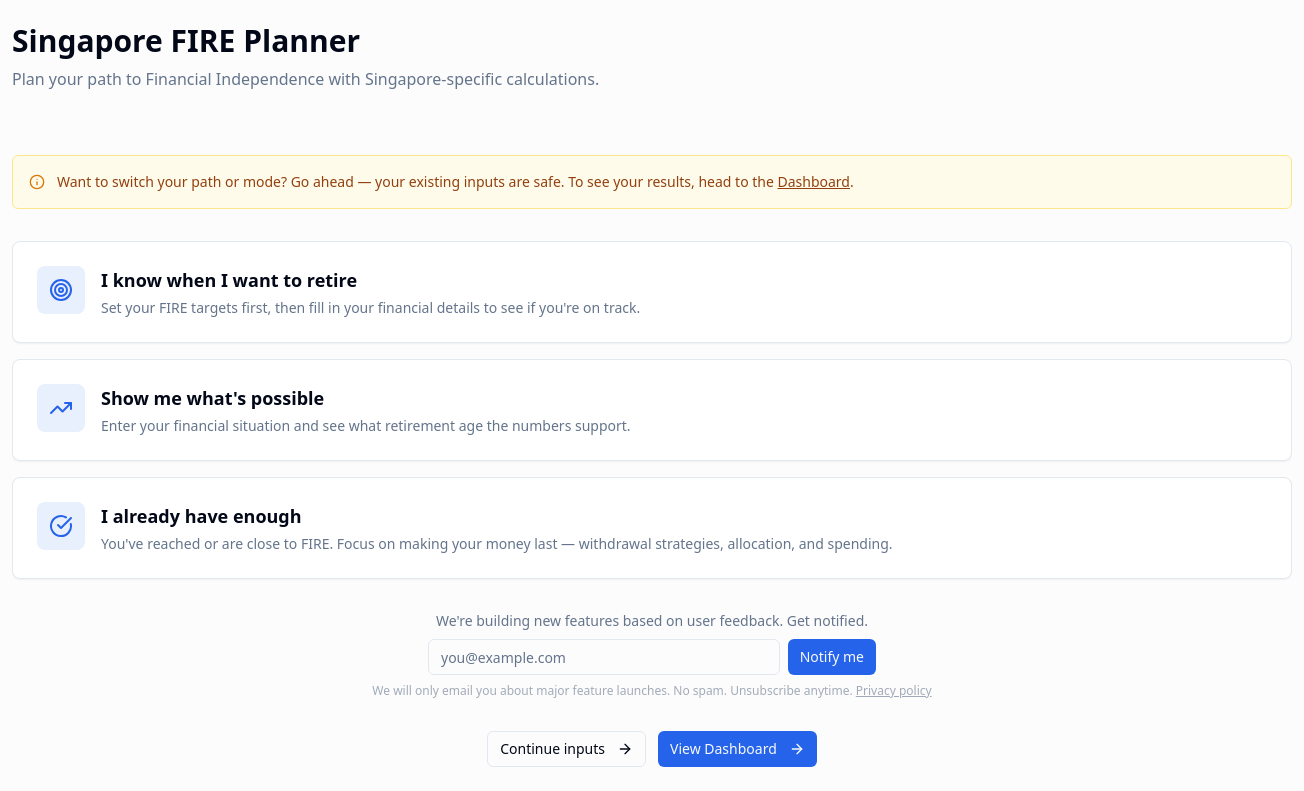
Test: StartPage › shows story-first form when clicking second pathway
Click the text "Show me what's possible": (213, 398) [101, 386, 324, 410]
(page scrolled)
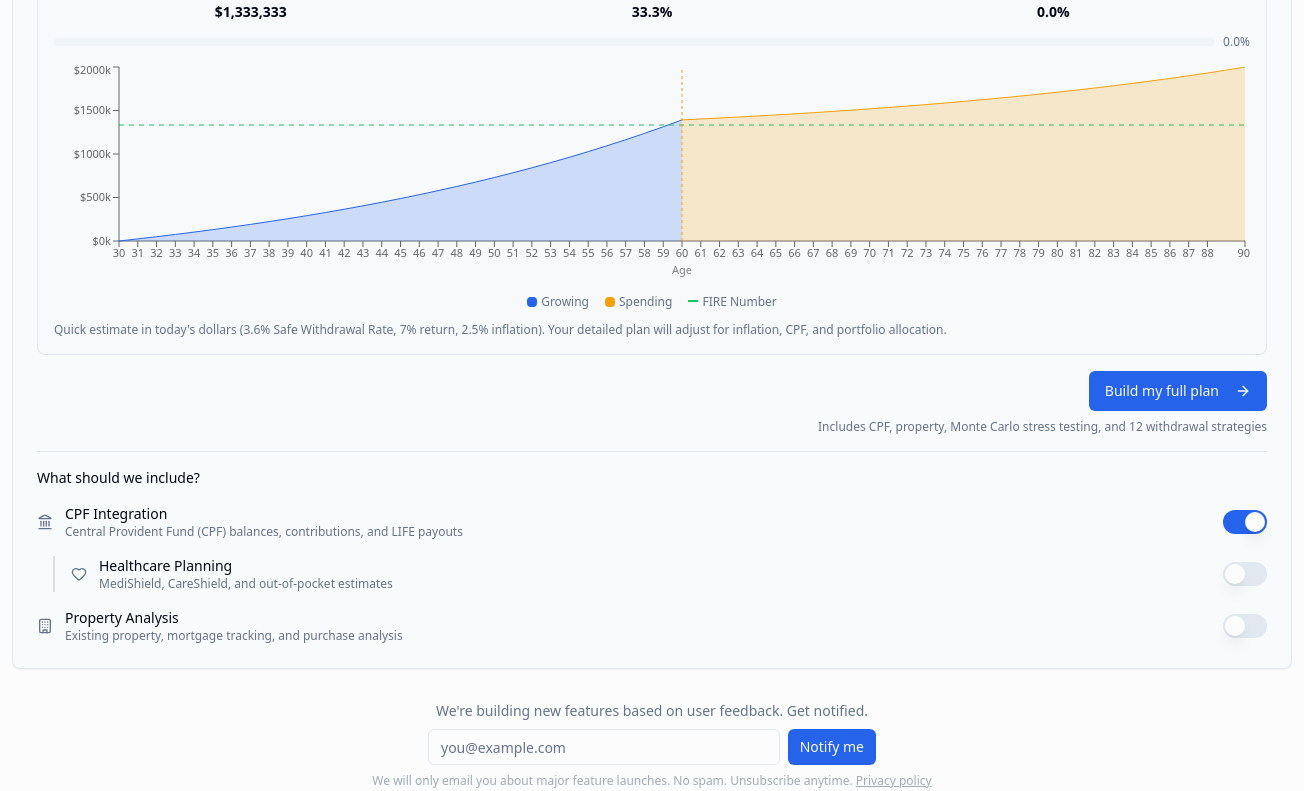
Expected: the button "Build my full plan" is shown, [1089, 371, 1267, 411]
